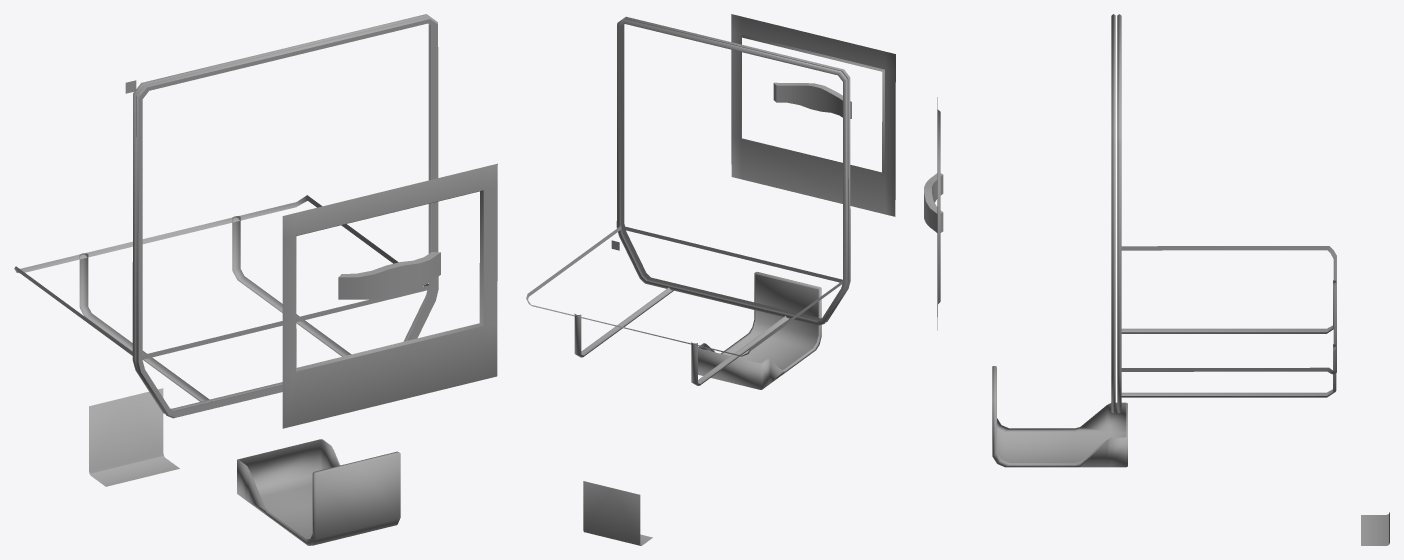
The model's file is CoffeeMachine_7_CoffeeMachine_7_0_GeomSubset_1.obj.
3 renders of one model, left to right at view 1: azimuth 30°, elevation 25°; view 2: azimuth 150°, elevation 25°; view 3: azimuth 270°, elevation 25°, orthographic. The views are drawn at different scales.
Parts seen in each view (by area): view 1: CoffeeMachine_7_CoffeeMachine_7_0_GeomSubset_1; view 2: CoffeeMachine_7_CoffeeMachine_7_0_GeomSubset_1; view 3: CoffeeMachine_7_CoffeeMachine_7_0_GeomSubset_1.
Part boxes in pixels (x1,y1,x2,y2): CoffeeMachine_7_CoffeeMachine_7_0_GeomSubset_1: [14, 14, 497, 545]; CoffeeMachine_7_CoffeeMachine_7_0_GeomSubset_1: [526, 14, 895, 545]; CoffeeMachine_7_CoffeeMachine_7_0_GeomSubset_1: [924, 14, 1389, 545].
Bounding box in the file's own units: 0.2872 × 0.4837 × 0.447.
